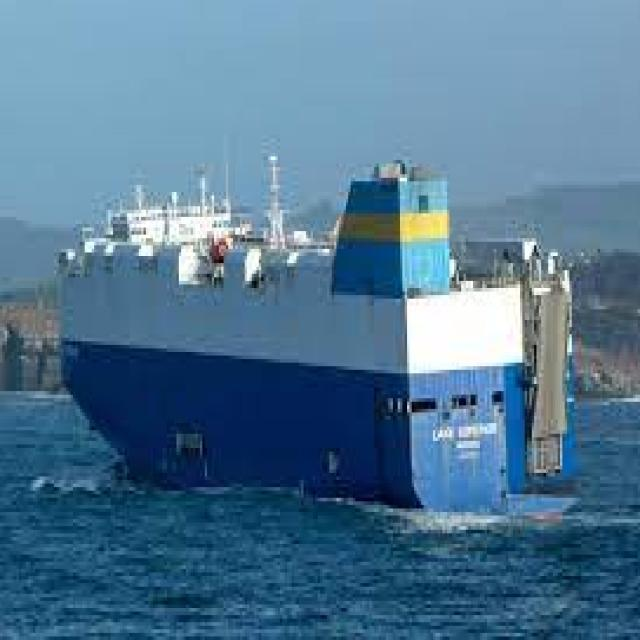cargoship: (53, 160, 572, 516)
